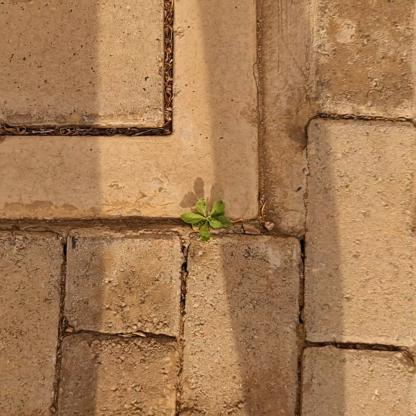Weeds: (180, 198, 232, 242)
